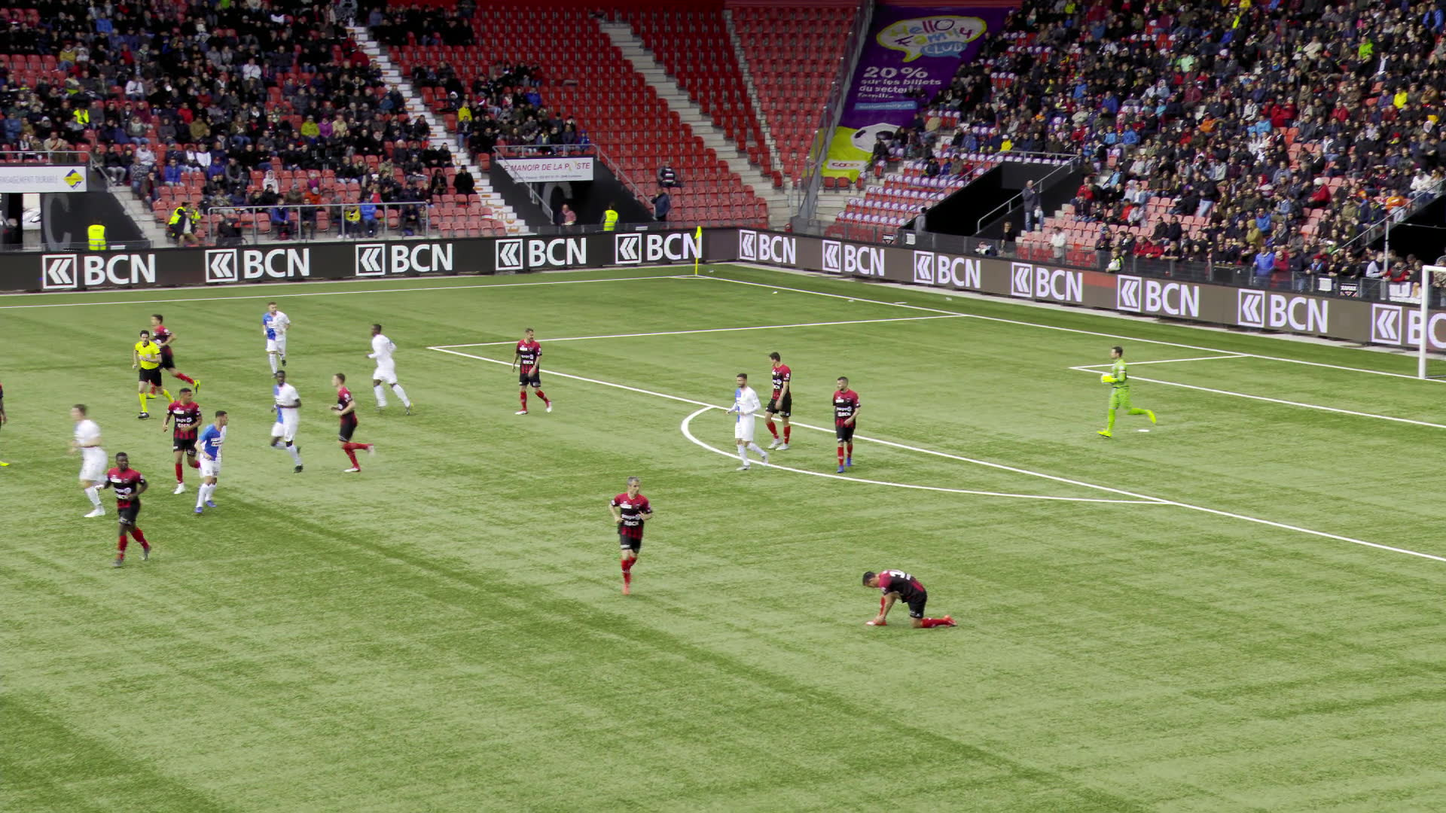ball: (1100, 373, 1110, 383)
player: (862, 570, 958, 629), (102, 452, 152, 565), (67, 403, 115, 516), (1097, 346, 1155, 439), (325, 373, 376, 473), (609, 476, 651, 595), (142, 312, 200, 397), (365, 324, 413, 416), (163, 389, 202, 495), (728, 373, 768, 469), (270, 370, 307, 472), (511, 327, 553, 414), (193, 411, 229, 512), (831, 376, 861, 472), (766, 352, 794, 449), (261, 301, 290, 377), (0, 404, 8, 467)
referee: (130, 330, 175, 419)
